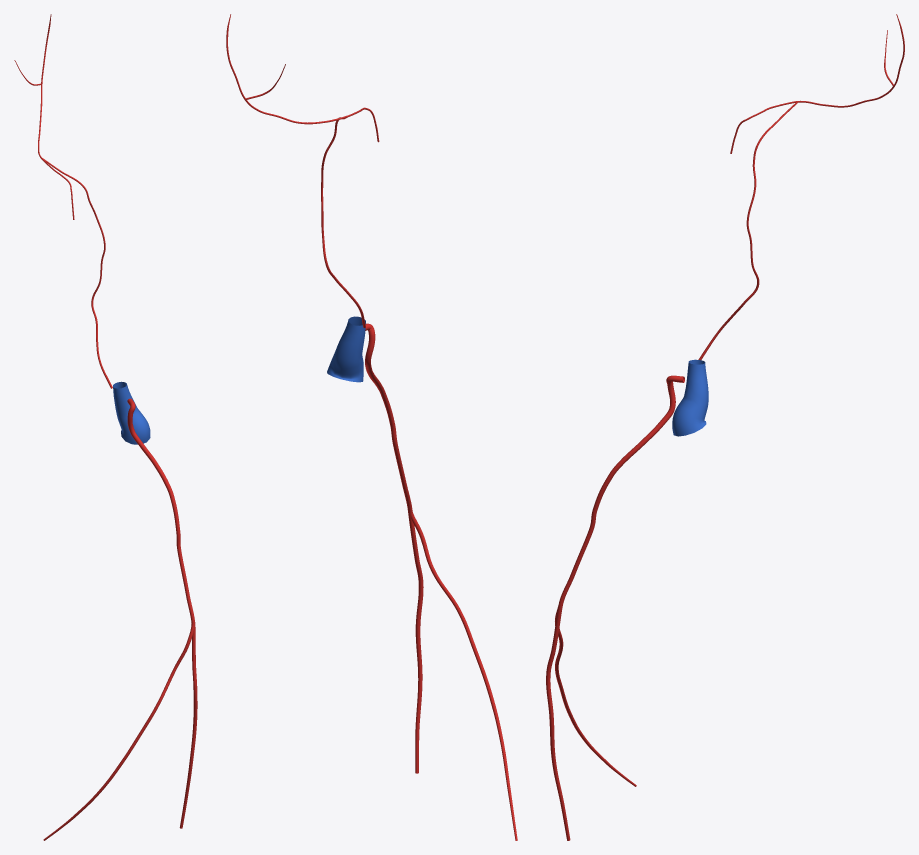
Rendered from circulatorio-right-brachiocephalic-vein.glb.
The picture shows the model from 3 angles, left to right: view 1: azimuth 30°, elevation 25°; view 2: azimuth 150°, elevation 25°; view 3: azimuth 270°, elevation 25°; orthographic projection. The views are drawn at different scales.
Parts seen in each view (by area): view 1: Right brachiocephalic vein, Internal thoracic veins.r, Musculophrenic veins.r, Superior epigastric veins.r, Vertebral vein.r, Occipital vein.r; view 2: Right brachiocephalic vein, Musculophrenic veins.r, Superior epigastric veins.r, Internal thoracic veins.r, Occipital vein.r, Vertebral vein.r; view 3: Right brachiocephalic vein, Internal thoracic veins.r, Superior epigastric veins.r, Vertebral vein.r, Musculophrenic veins.r, Occipital vein.r.
Boxes of the visible parts, x1,y1,x2,y2 form: Right brachiocephalic vein: [113, 381, 150, 444]; Internal thoracic veins.r: [127, 398, 195, 623]; Musculophrenic veins.r: [43, 623, 194, 840]; Superior epigastric veins.r: [179, 623, 197, 828]; Vertebral vein.r: [42, 158, 112, 388]; Occipital vein.r: [14, 14, 74, 219]; Right brachiocephalic vein: [327, 316, 365, 382]; Musculophrenic veins.r: [410, 512, 517, 840]; Superior epigastric veins.r: [408, 512, 423, 773]; Internal thoracic veins.r: [365, 323, 412, 512]; Occipital vein.r: [226, 14, 379, 142]; Vertebral vein.r: [321, 117, 365, 327]; Right brachiocephalic vein: [672, 359, 708, 436]; Internal thoracic veins.r: [559, 375, 684, 604]; Superior epigastric veins.r: [546, 605, 570, 840]; Vertebral vein.r: [698, 101, 798, 360]; Musculophrenic veins.r: [555, 604, 636, 786]; Occipital vein.r: [730, 14, 904, 153].
Size of the model in its own units: 0.1021 by 0.5449 by 0.2109.
